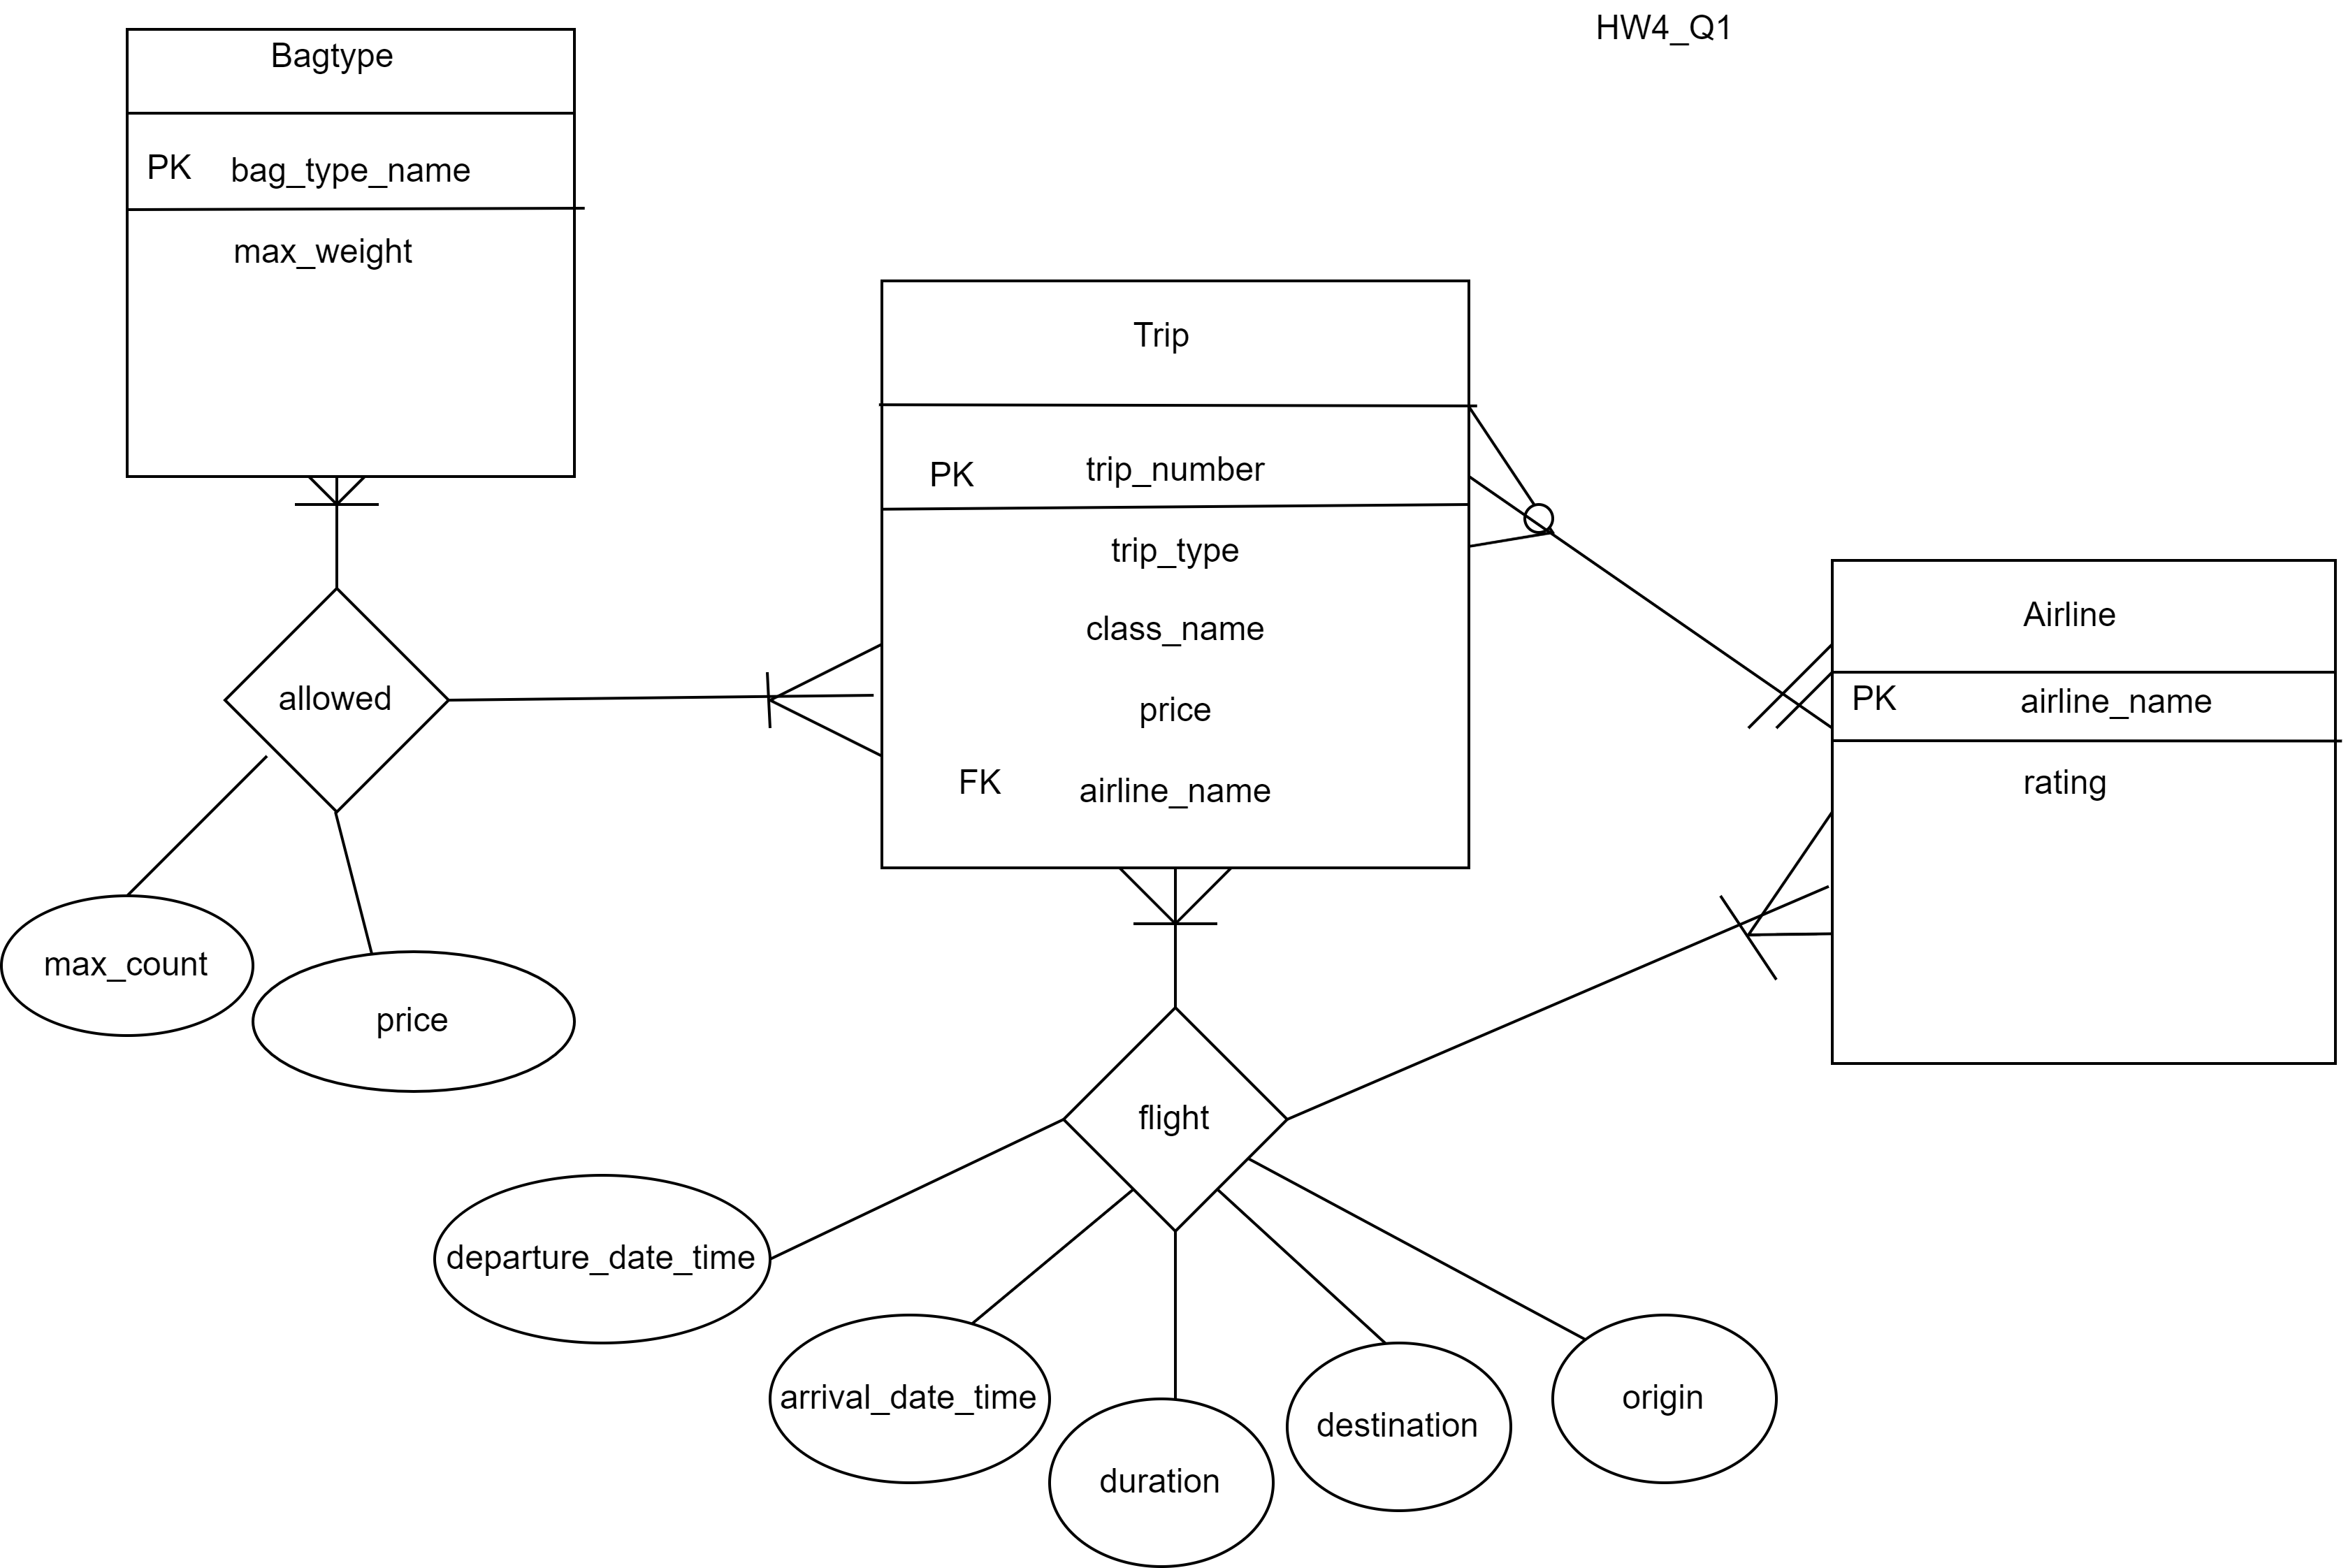entity: (878, 280, 1470, 866), (1830, 556, 2338, 1064), (131, 28, 574, 476)
many: (737, 618, 885, 766), (1718, 803, 1830, 997), (1463, 395, 1568, 576), (1102, 861, 1254, 941), (287, 469, 413, 520)
one: (1739, 632, 1832, 742)
rel: (227, 590, 444, 808), (1067, 1013, 1284, 1225)
rel_attr: (430, 1174, 773, 1346), (768, 1309, 1053, 1480), (252, 947, 577, 1087), (1046, 1395, 1275, 1566), (1286, 1339, 1512, 1512), (1552, 1314, 1781, 1484), (3, 894, 252, 1032)
